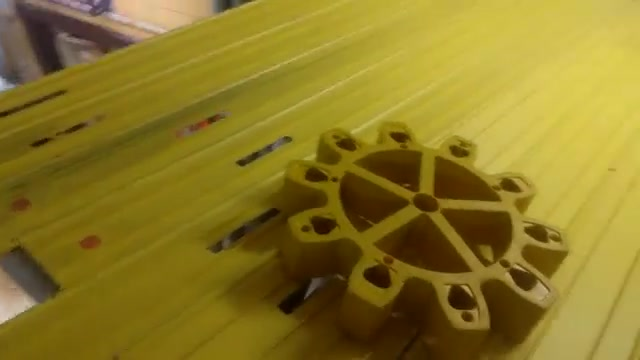gear: (262, 108, 586, 358)
